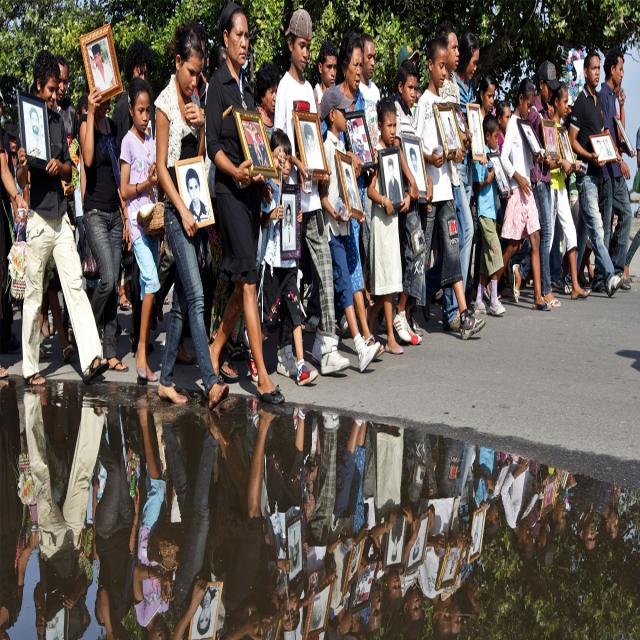body: (0, 386, 640, 640), (204, 4, 288, 407), (13, 47, 111, 389), (152, 21, 232, 415), (272, 7, 352, 377), (0, 73, 90, 371), (404, 34, 488, 340), (317, 29, 387, 364), (308, 82, 382, 373), (245, 126, 319, 388), (70, 68, 133, 375), (480, 76, 556, 314), (560, 47, 626, 300), (27, 51, 84, 343), (438, 29, 490, 333), (202, 40, 248, 383), (118, 76, 164, 382), (511, 60, 563, 310), (434, 25, 474, 334), (392, 57, 434, 347), (364, 94, 408, 356), (591, 48, 635, 292), (548, 78, 592, 302), (471, 110, 515, 318), (604, 50, 640, 298), (342, 118, 426, 219), (358, 30, 381, 304), (110, 38, 158, 142), (173, 10, 210, 140), (254, 59, 280, 144), (313, 40, 339, 119), (520, 121, 570, 162), (181, 160, 205, 224), (243, 114, 269, 172), (300, 116, 328, 162), (493, 98, 513, 162), (282, 196, 299, 252), (477, 73, 496, 123), (90, 42, 112, 82), (440, 107, 458, 153), (394, 41, 420, 71), (492, 157, 511, 196), (586, 129, 605, 167), (470, 107, 484, 157)
